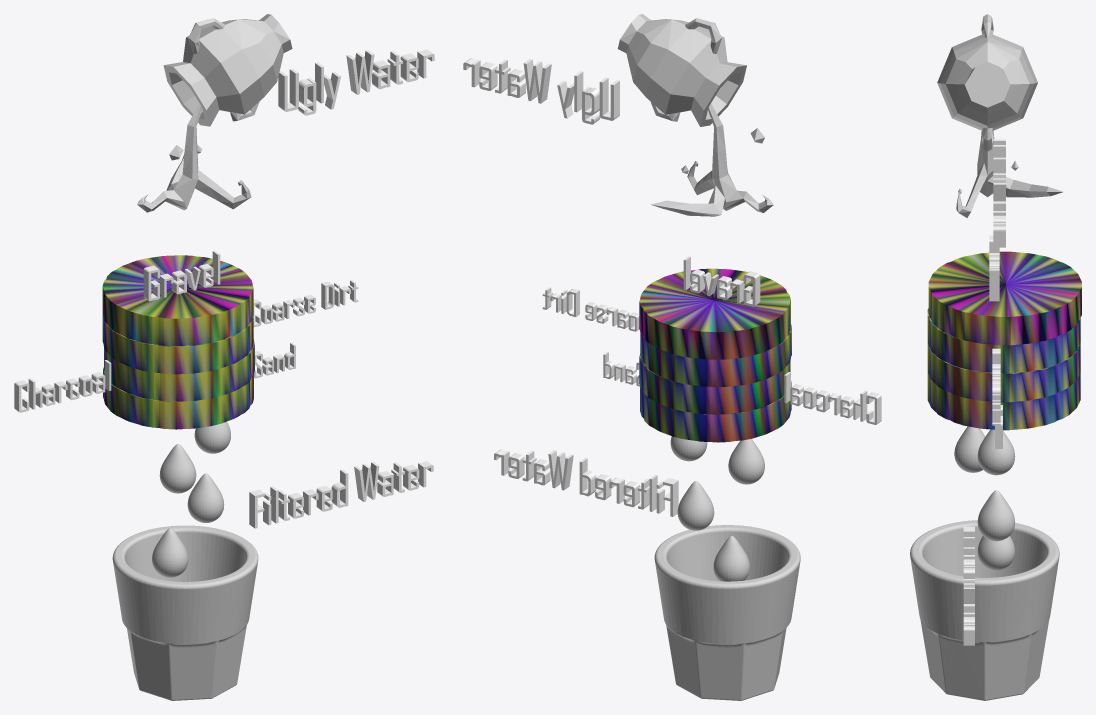
3 renders of one model, left to right at view 1: azimuth 30°, elevation 25°; view 2: azimuth 150°, elevation 25°; view 3: azimuth 270°, elevation 25°, orthographic. The views are drawn at different scales.
Bounding box in the file's own units: 0.3913 × 0.5911 × 0.1372.
